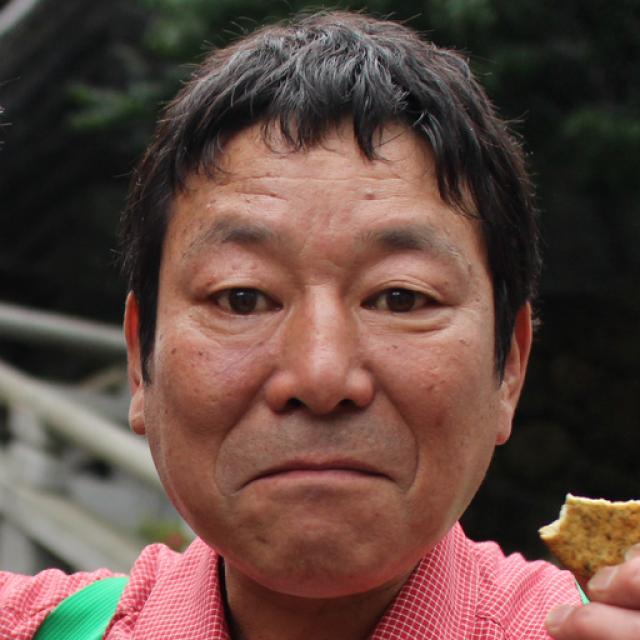Acne: (259, 345, 281, 364), (359, 187, 379, 204)
Wrinkle: (218, 168, 409, 190), (233, 185, 289, 206)
